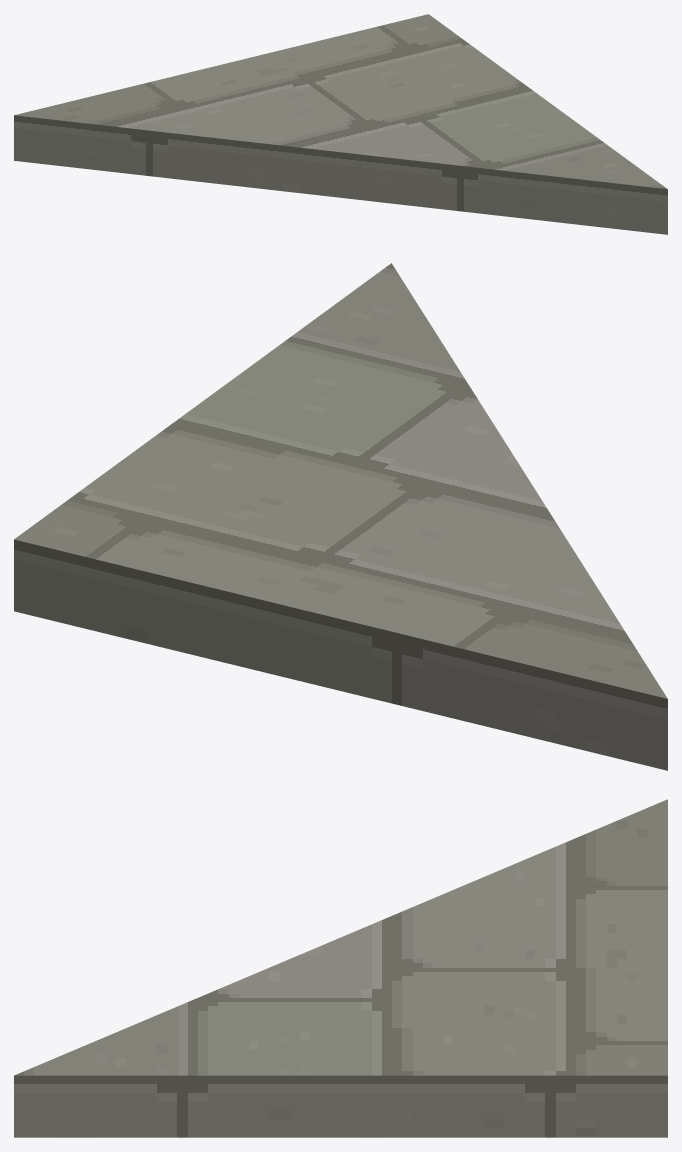
Rendered from corner_walk_slab.glb.
3 views of the same model, one above another, from view 1: azimuth 30°, elevation 25°; view 2: azimuth 150°, elevation 25°; view 3: azimuth 270°, elevation 25° (orthographic). The views are drawn at different scales.
Visible parts, largest first — view 1: Corner walk slab; view 2: Corner walk slab; view 3: Corner walk slab.
Part boxes in pixels (box(x1,y1,x2,y2)): Corner walk slab: box(14, 14, 667, 234); Corner walk slab: box(14, 263, 667, 770); Corner walk slab: box(14, 799, 667, 1137).
Size of the model in its own units: 1 by 0.105 by 1.
1 material, 1 textured.
